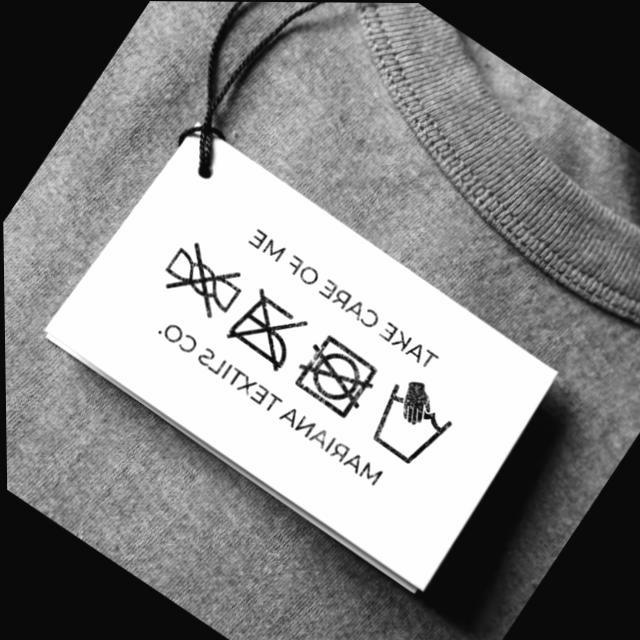DN_iron: (231, 290, 304, 369)
DN_tumble_dry: (300, 335, 379, 413)
DN_wring: (164, 241, 242, 314)
hand_wash: (373, 379, 453, 469)
